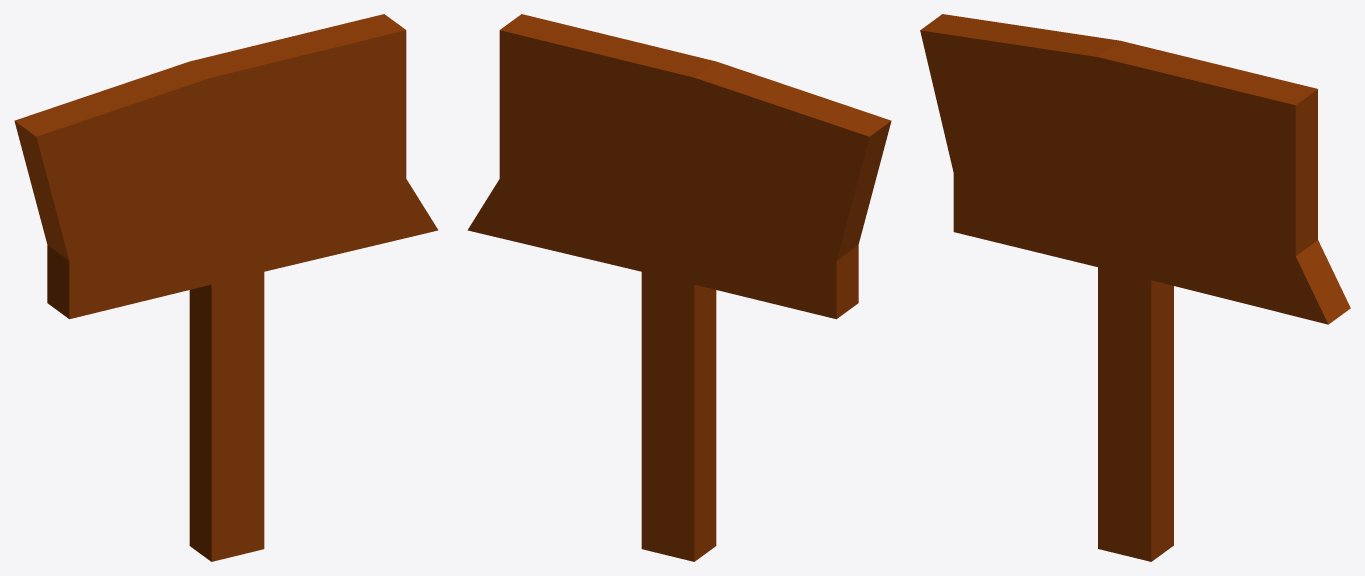
Rendered from sign.FBX.
3 views of the same model, side by side, from view 1: azimuth 30°, elevation 25°; view 2: azimuth 150°, elevation 25°; view 3: azimuth 330°, elevation 25° (orthographic).
Parts seen in each view (by area): view 1: Box001; view 2: Box001; view 3: Box001.
Boxes of the visible parts, bbox=[...] form: Box001: bbox=[14, 14, 438, 561]; Box001: bbox=[467, 14, 891, 561]; Box001: bbox=[920, 14, 1350, 561].
Size of the model in its own units: 1.23 by 1.41 by 0.1166.
